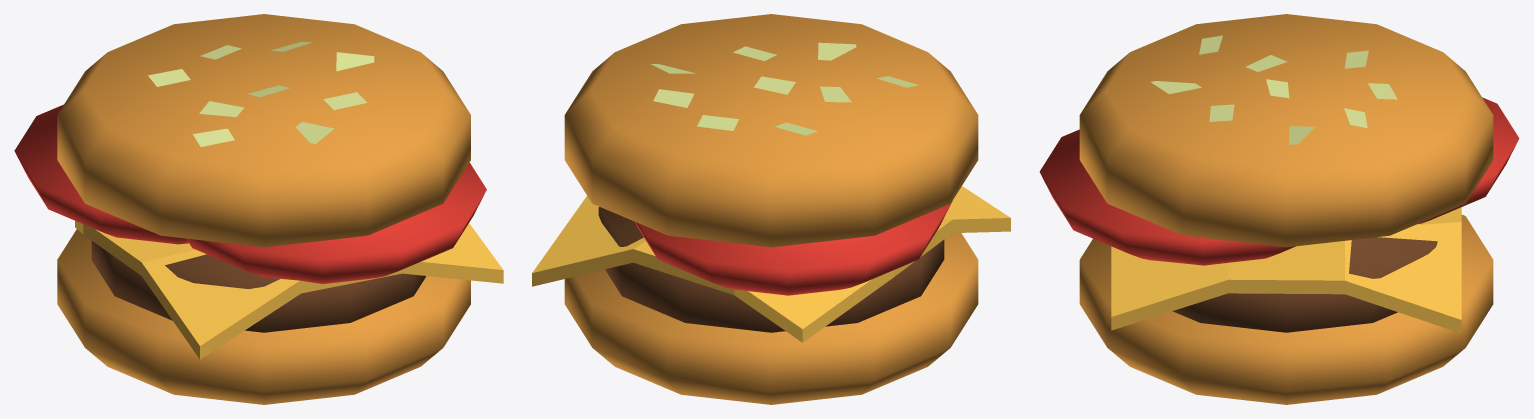
Rendered from Burger(Tomato).glb.
The picture shows the model from 3 angles, left to right: view 1: azimuth 30°, elevation 25°; view 2: azimuth 150°, elevation 25°; view 3: azimuth 270°, elevation 25°; orthographic projection.
Visible parts, largest first — view 1: Cylinder.027; view 2: Cylinder.027; view 3: Cylinder.027.
Boxes of the visible parts, box(x1,y1,x2,y2) form: Cylinder.027: box(14, 14, 503, 404); Cylinder.027: box(532, 14, 1010, 404); Cylinder.027: box(1039, 14, 1519, 404).
Size of the model in its own units: 0.4906 by 0.3075 by 0.5473.
